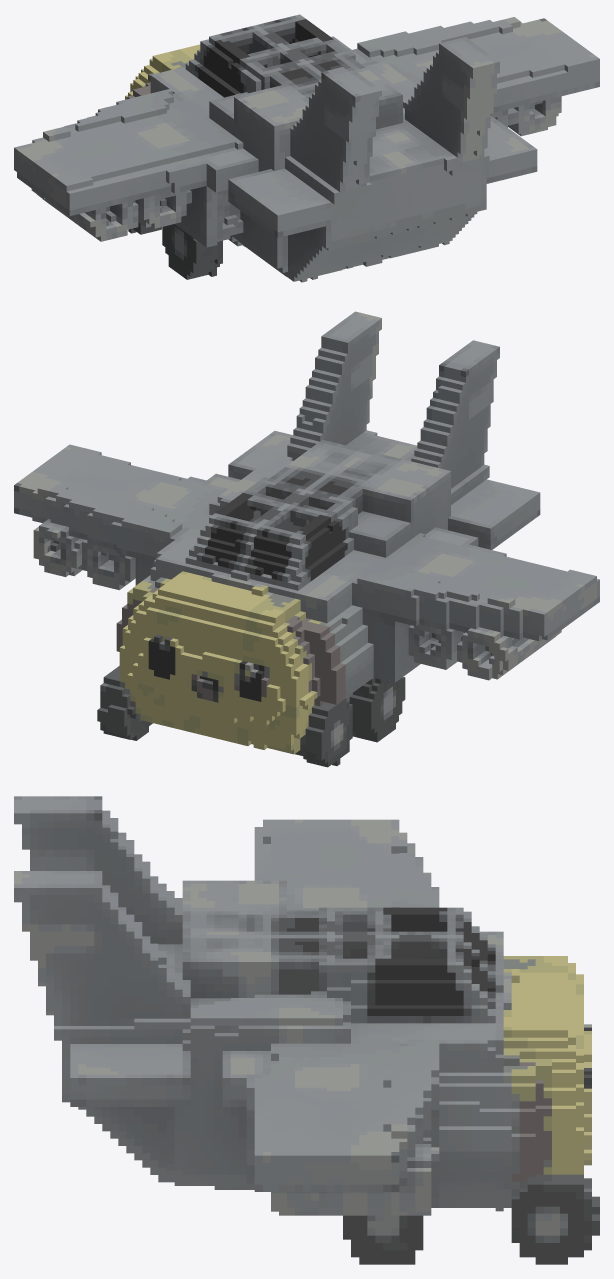
File: TacoplanoBombardino.glb
3 renders of one model, top to bottom at view 1: azimuth 30°, elevation 25°; view 2: azimuth 150°, elevation 25°; view 3: azimuth 270°, elevation 25°, orthographic. The views are drawn at different scales.
Parts seen in each view (by area): view 1: geometry_0; view 2: geometry_0; view 3: geometry_0.
Boxes of the visible parts, x1,y1,x2,y2 form: geometry_0: (14, 14, 599, 282); geometry_0: (14, 311, 599, 767); geometry_0: (14, 796, 599, 1264).
Size of the model in its own units: 2.02 by 1 by 1.49.
